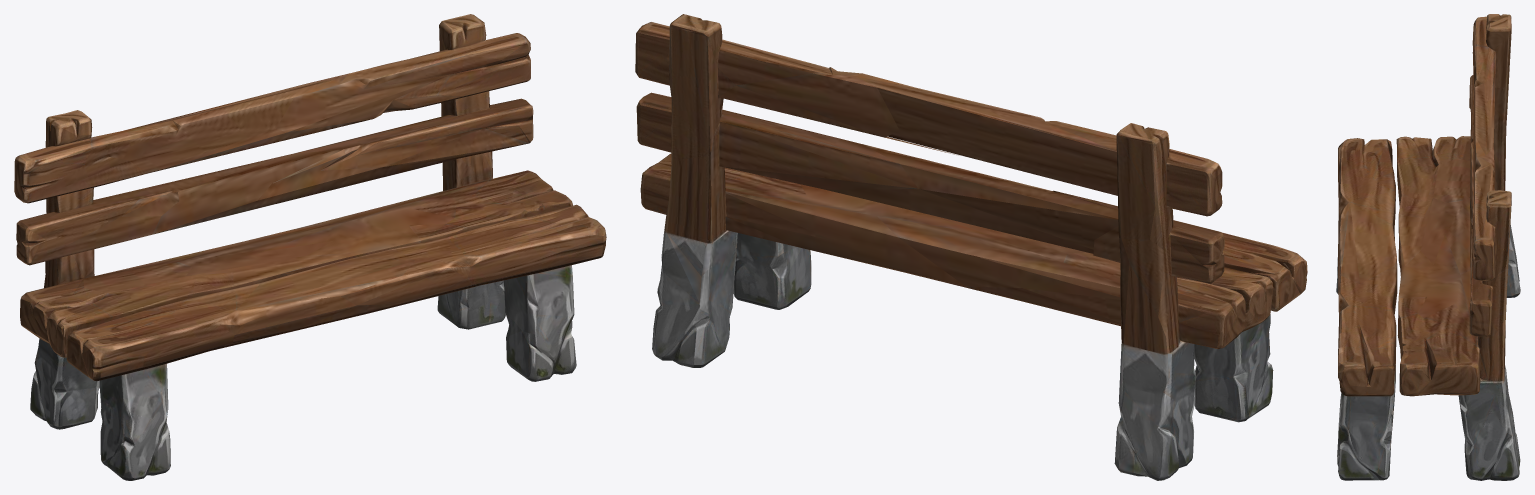
Rendered from bench_3d.glb.
3 views of the same model, side by side, from view 1: azimuth 30°, elevation 25°; view 2: azimuth 150°, elevation 25°; view 3: azimuth 270°, elevation 25° (orthographic). The views are drawn at different scales.
Parts seen in each view (by area): view 1: Mesh_0; view 2: Mesh_0; view 3: Mesh_0.
Boxes of the visible parts, bbox=[...] form: Mesh_0: bbox=[14, 14, 606, 480]; Mesh_0: bbox=[635, 14, 1307, 480]; Mesh_0: bbox=[1336, 14, 1520, 480].
Bounding box in the file's own units: 1.37 × 0.75 × 0.4611.
Materials: 1 (1 with a texture image).
